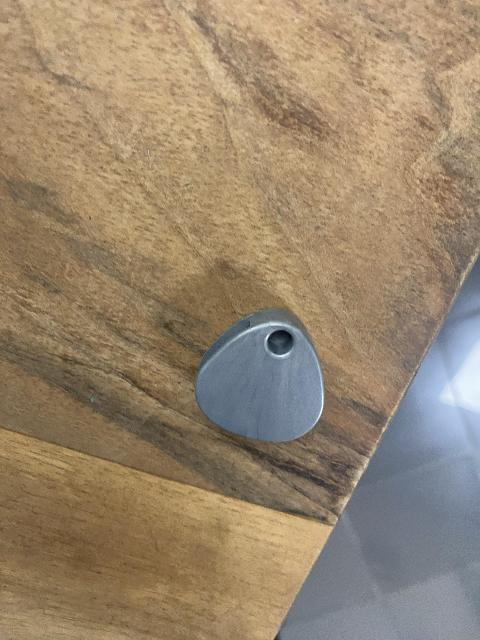Plastik: (195, 310, 332, 444)
